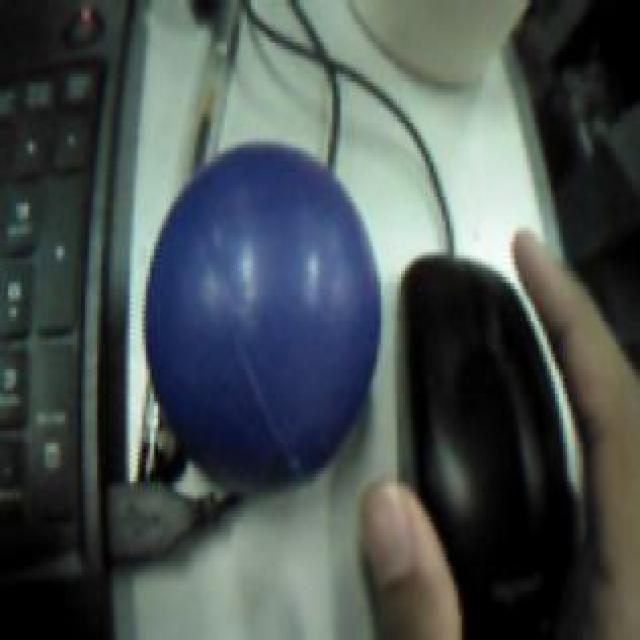BallPurple: (146, 143, 380, 490)
